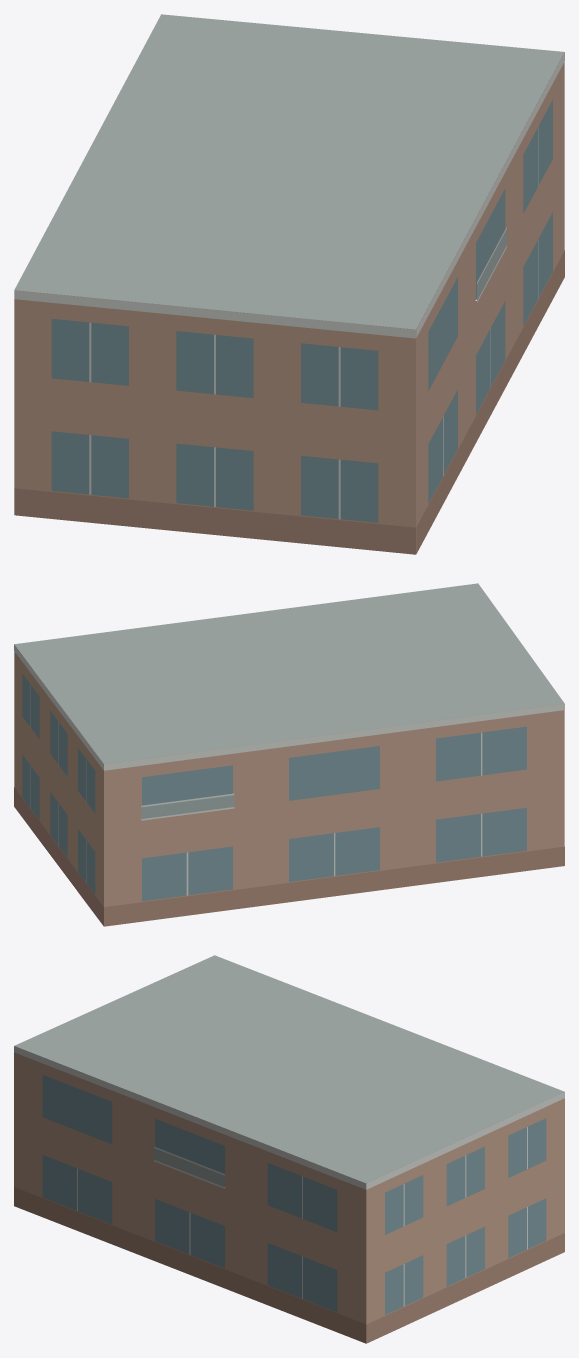
File: survey-upis-32891004.glb
3 renders of one model, top to bottom at view 1: azimuth 30°, elevation 25°; view 2: azimuth 150°, elevation 25°; view 3: azimuth 270°, elevation 25°, orthographic. The views are drawn at different scales.
Visible parts, largest first — view 1: survey-upis-32891004.tmp; view 2: survey-upis-32891004.tmp; view 3: survey-upis-32891004.tmp.
Part boxes in pixels (x1,y1,x2,y2): survey-upis-32891004.tmp: (14, 14, 564, 554); survey-upis-32891004.tmp: (14, 583, 564, 926); survey-upis-32891004.tmp: (14, 955, 564, 1343).
Bounding box in the file's own units: 18.65 × 6.1 × 19.01.
